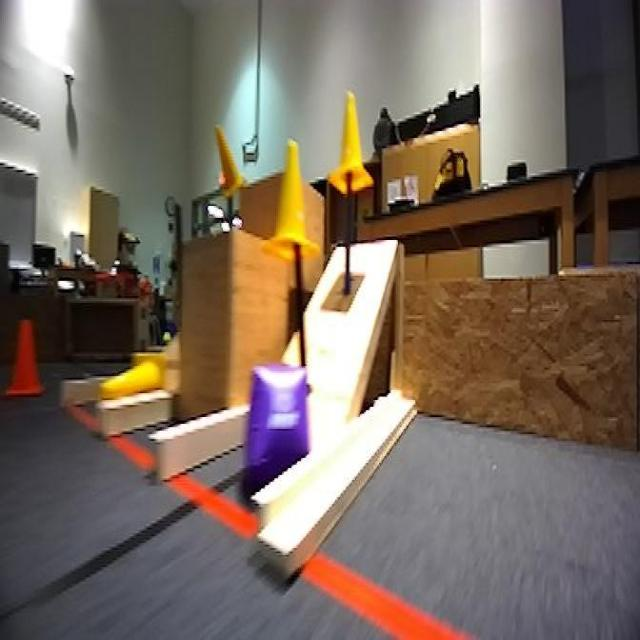frc_cone: (268, 141, 321, 259), (328, 88, 374, 195), (100, 349, 169, 407), (212, 116, 246, 199)
frc_cube: (236, 359, 312, 485)
